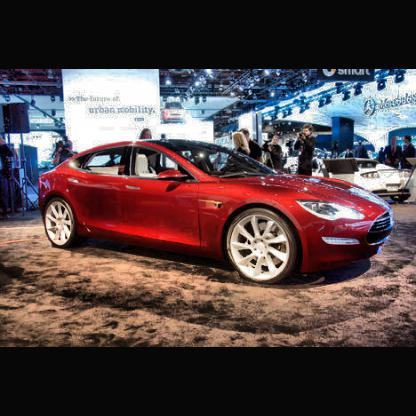Tesla Model S Sedan 2012: (39, 136, 396, 293)
